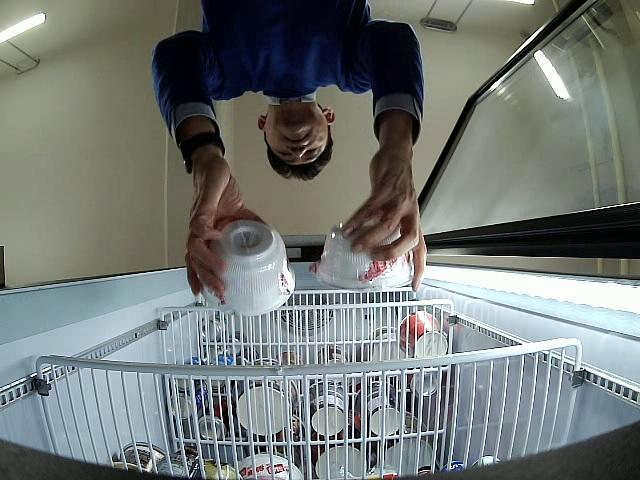00_hand: (342, 146, 427, 292), (185, 159, 269, 296)
09_yukGaeJang: (200, 220, 295, 316), (317, 223, 414, 288)
